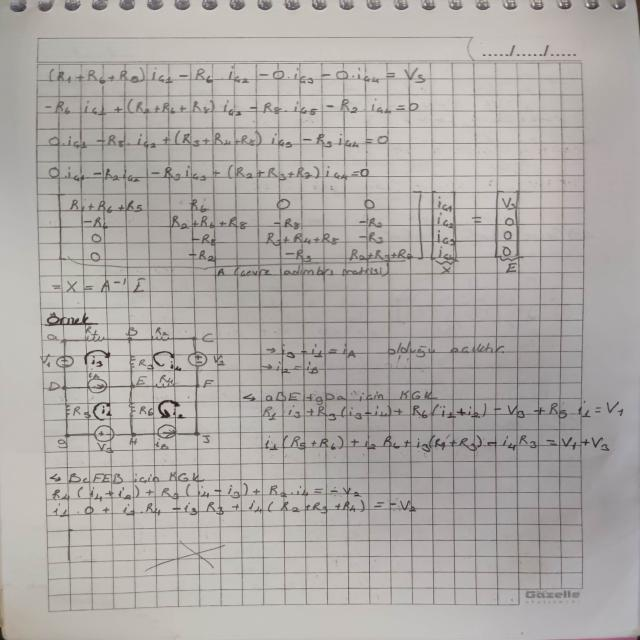image: (40, 324, 240, 462)
math: (38, 64, 432, 186), (254, 338, 627, 459), (53, 190, 533, 280), (42, 468, 420, 518)
